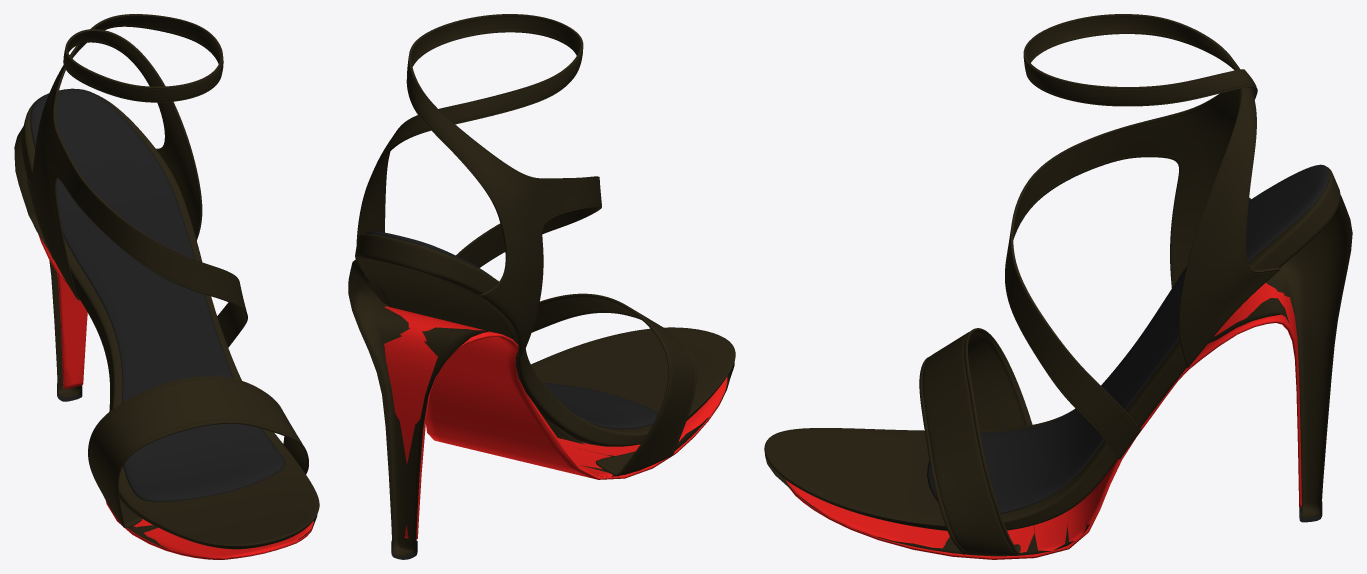
The model's file is heels.glb.
3 renders of one model, left to right at view 1: azimuth 30°, elevation 25°; view 2: azimuth 150°, elevation 25°; view 3: azimuth 270°, elevation 25°, orthographic. The views are drawn at different scales.
Visible parts, largest first — view 1: Cushion_6, Strap_3, Insole_0, OutSole_4, Heel_2; view 2: Strap_3, Insole_0, OutSole_4, Heel_2, Cushion_6, UnderSole_1; view 3: Strap_3, Insole_0, Cushion_6, Heel_2, OutSole_4, UnderSole_1.
Part boxes in pixels (<box>): Cushion_6: <box>30,88,285,501</box>; Strap_3: <box>27,14,308,527</box>; Insole_0: <box>21,93,319,549</box>; OutSole_4: <box>38,234,313,559</box>; Heel_2: <box>14,126,81,397</box>; Strap_3: <box>356,14,696,476</box>; Insole_0: <box>355,233,735,446</box>; OutSole_4: <box>384,306,727,539</box>; Heel_2: <box>348,257,516,556</box>; Cushion_6: <box>365,231,657,429</box>; UnderSole_1: <box>545,362,734,476</box>; Strap_3: <box>919,14,1280,555</box>; Insole_0: <box>764,167,1340,530</box>; Cushion_6: <box>927,164,1328,513</box>; Heel_2: <box>1208,194,1352,518</box>; OutSole_4: <box>785,283,1301,559</box>; UnderSole_1: <box>765,455,1104,556</box>.
Size of the model in its own units: 0.0925 by 0.1865 by 0.2141.
